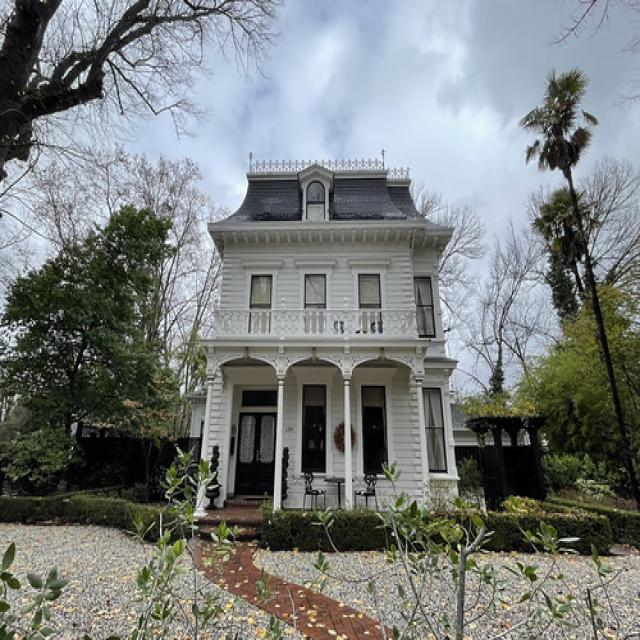Normal_building: (189, 154, 465, 531)
